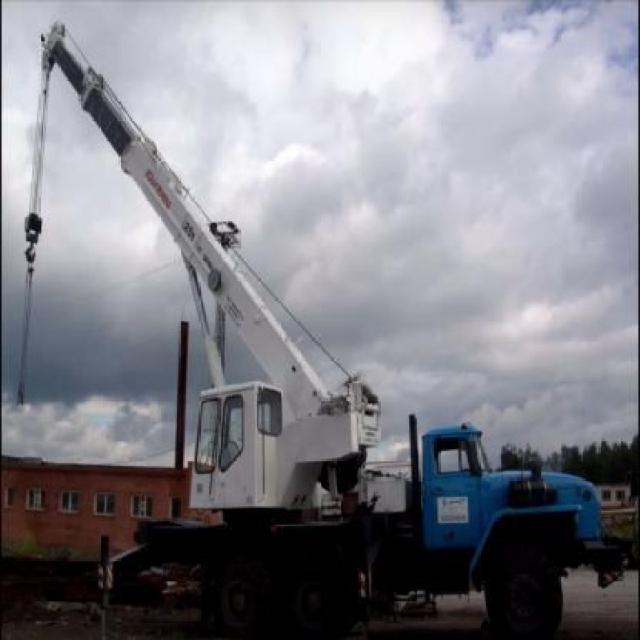Mobile Crane: (25, 26, 600, 628)
